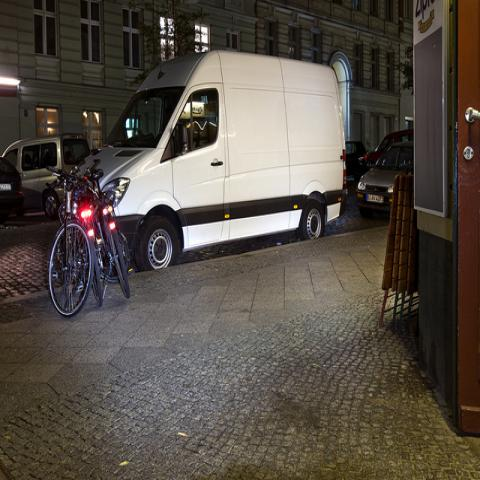car: (4, 134, 94, 207), (355, 140, 415, 214), (352, 124, 416, 188), (0, 156, 26, 221), (342, 138, 369, 184)
truck: (81, 49, 347, 271)
